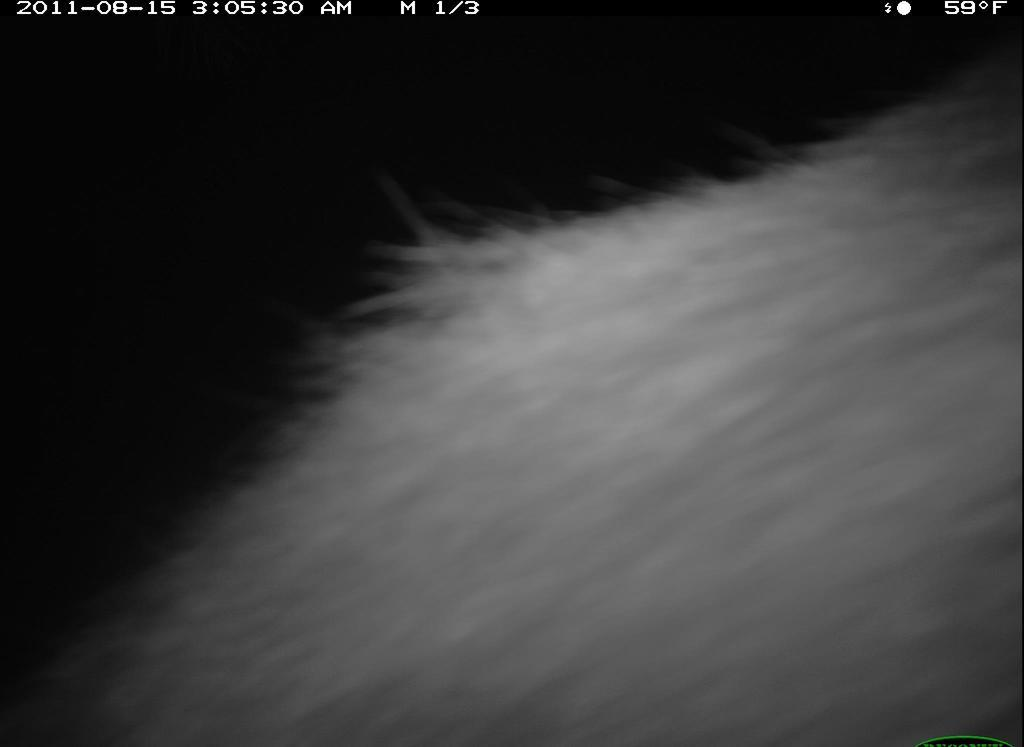raccoon: (69, 83, 1017, 740)
